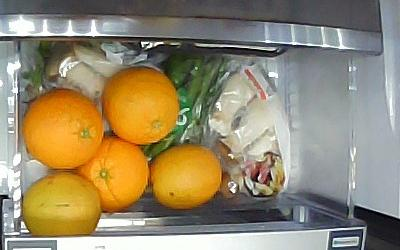orange: (22, 88, 103, 172), (104, 66, 179, 145), (21, 171, 101, 237), (85, 136, 149, 211), (152, 143, 222, 209)
